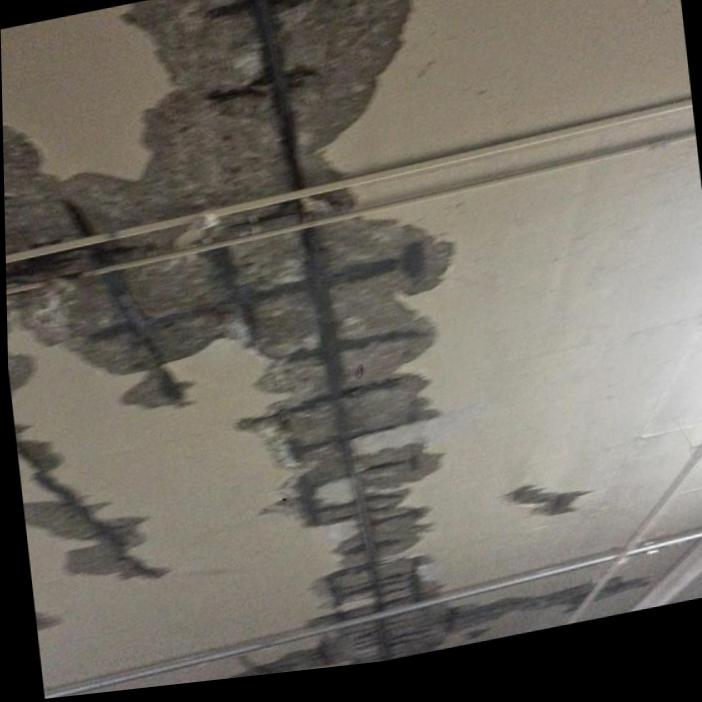damage: (5, 227, 452, 629), (2, 0, 410, 254), (4, 187, 356, 330), (235, 602, 582, 682), (13, 426, 158, 580), (502, 498, 589, 530), (598, 594, 649, 614), (33, 614, 57, 632)
